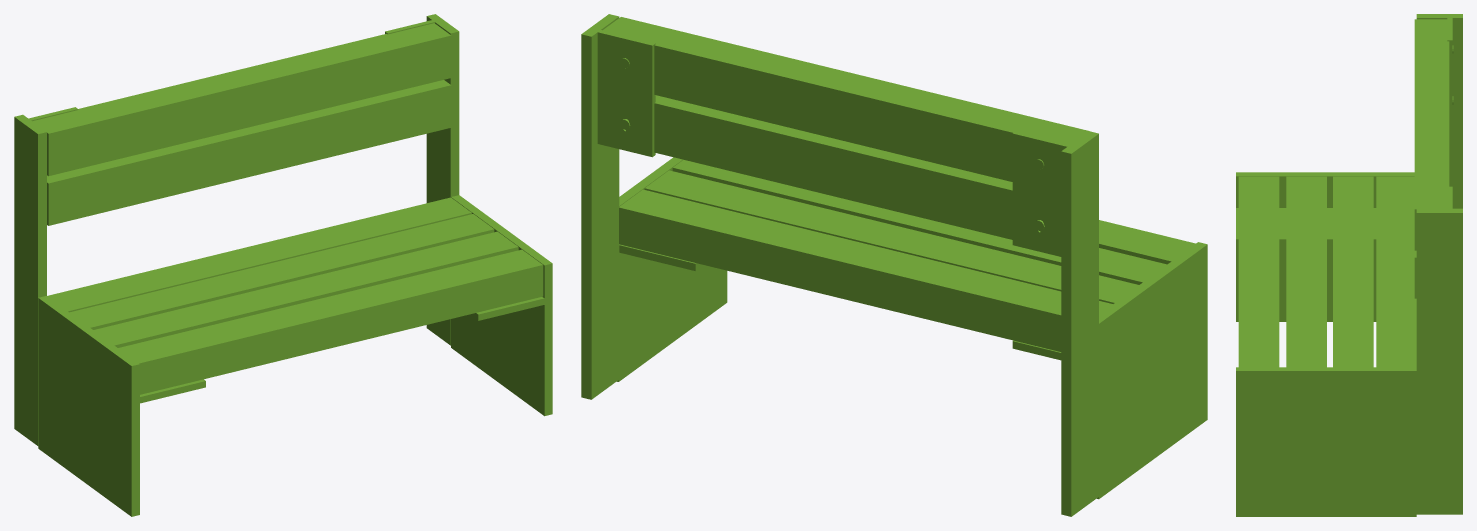
3 views of the same model, side by side, from view 1: azimuth 30°, elevation 25°; view 2: azimuth 150°, elevation 25°; view 3: azimuth 270°, elevation 25° (orthographic). The views are drawn at different scales.
Parts seen in each view (by area): view 1: Cube.012; view 2: Cube.012; view 3: Cube.012.
Part boxes in pixels (x1=…): Cube.012: x1=14, y1=14, x2=552, y2=516; Cube.012: x1=581, y1=14, x2=1207, y2=516; Cube.012: x1=1236, y1=14, x2=1462, y2=516.
Bounding box in the file's own units: 5.21 × 3.71 × 2.51.
